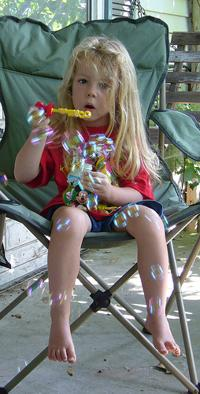person: (13, 30, 182, 372)
